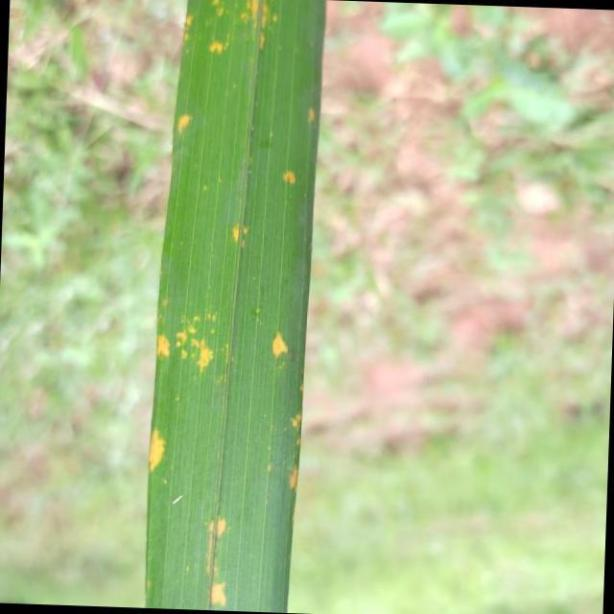Kalium: (142, 0, 328, 614)
